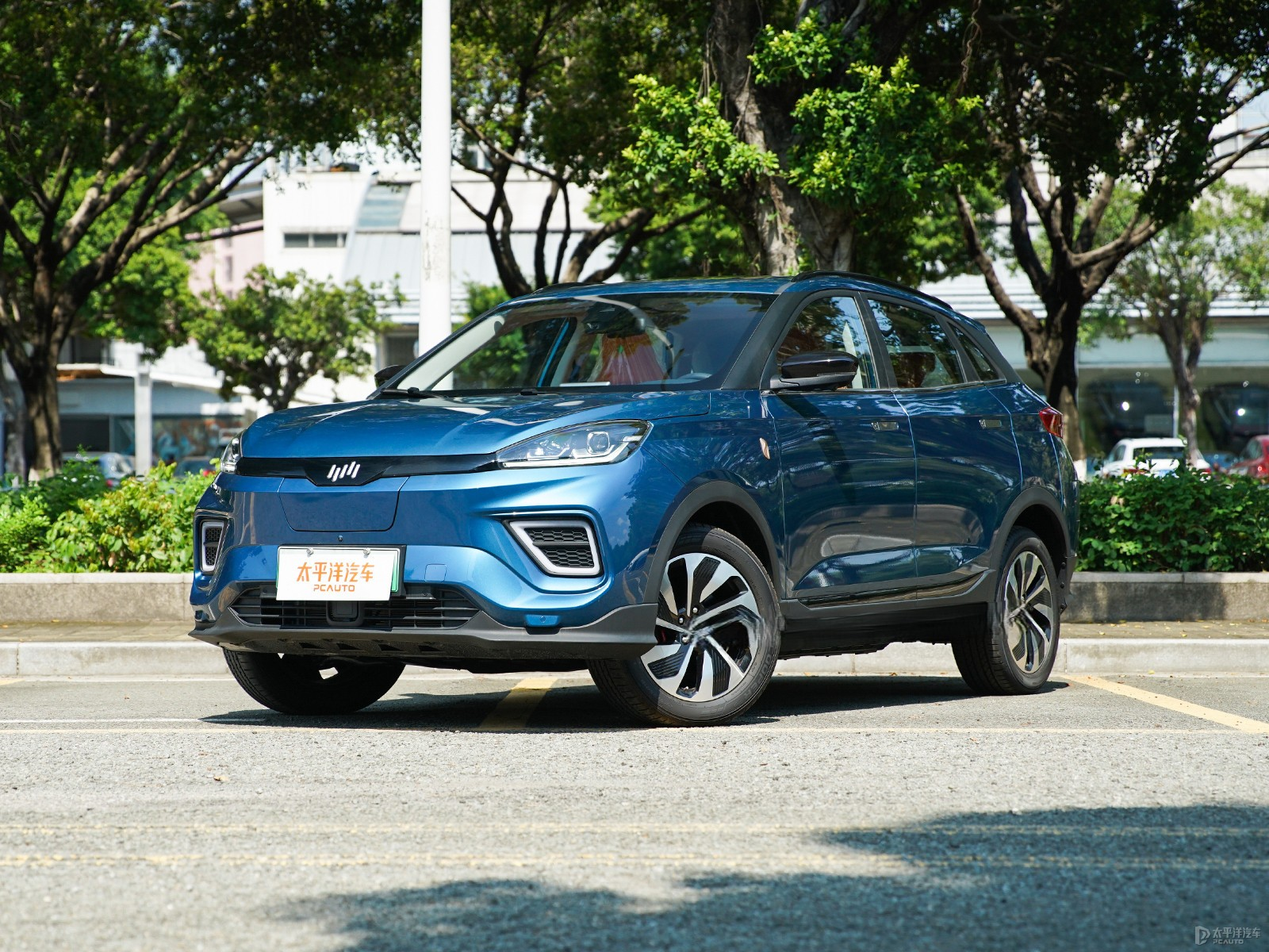WELTMEISTER: (328, 463, 359, 481)
